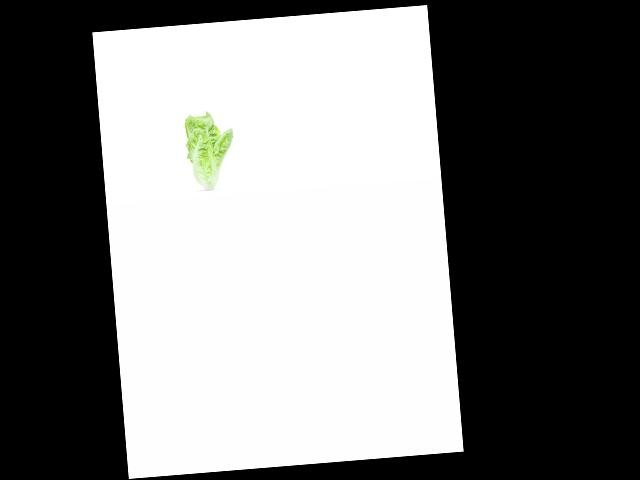lettuce: (180, 108, 237, 189)
